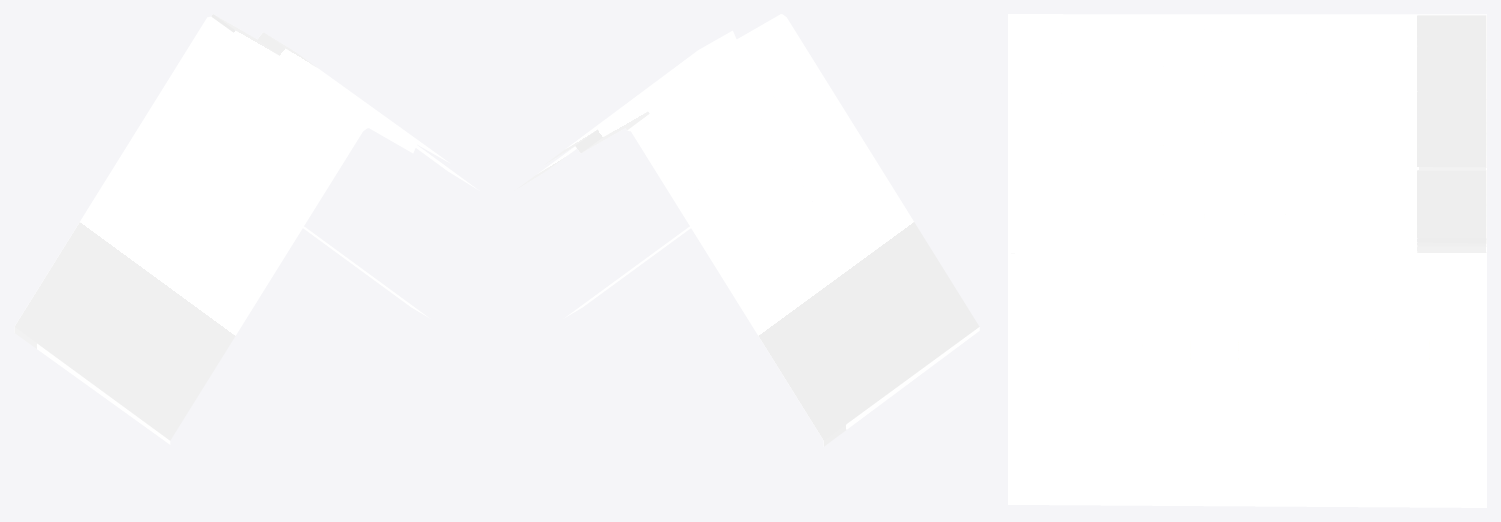
The picture shows the model from 3 angles, left to right: view 1: azimuth 30°, elevation 25°; view 2: azimuth 150°, elevation 25°; view 3: azimuth 270°, elevation 25°; orthographic projection. The views are drawn at different scales.
Parts seen in each view (by area): view 1: BuildingMaster_1984193608364464569700000000_0; view 2: BuildingMaster_1984193608364464569700000000_0; view 3: BuildingMaster_1984193608364464569700000000_0.
Boxes of the visible parts, x1,y1,x2,y2 form: BuildingMaster_1984193608364464569700000000_0: (14,14,479,444); BuildingMaster_1984193608364464569700000000_0: (514,14,979,446); BuildingMaster_1984193608364464569700000000_0: (1008,14,1486,507).
Bounding box in the file's own units: 40.5 × 44.5 × 35.
